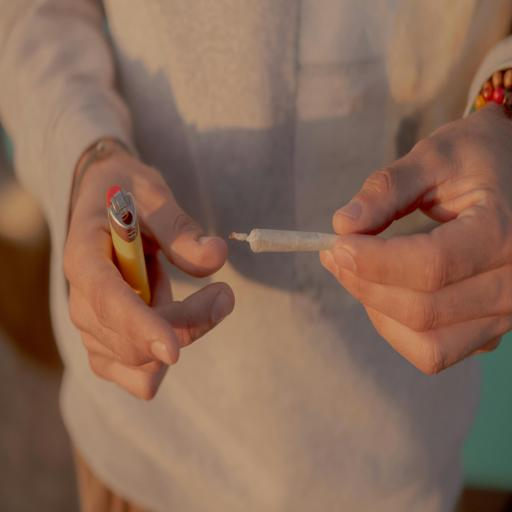lighter: (94, 178, 170, 320)
